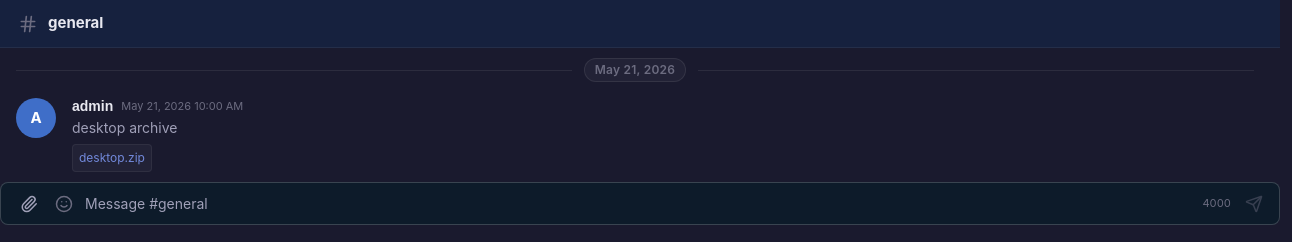
Test: ChatArea regressions › keeps the download filename when desktop resolves an attachment to a blob URL
Click the link "desktop.zip" at (112, 158), box [72,144,152,172]
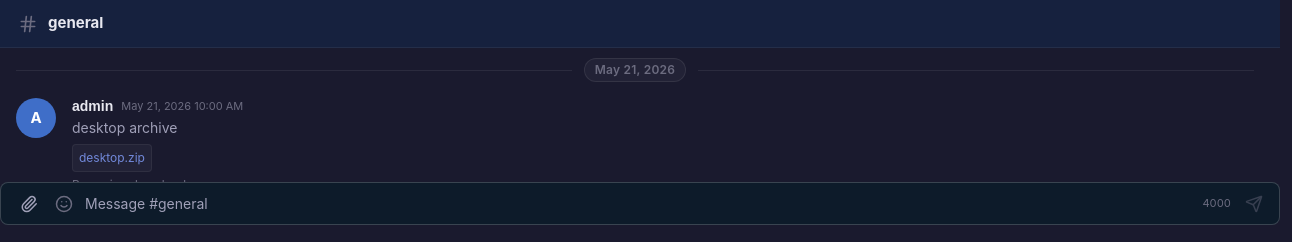
Click the link "desktop.zip" at (112, 158), box [72,144,152,172]
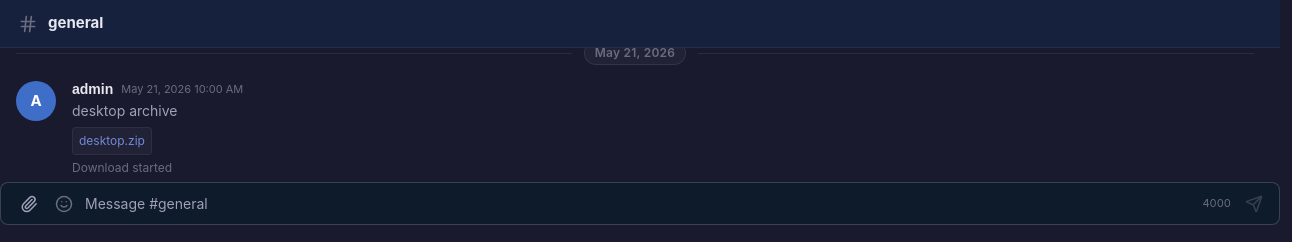
Expected: the link "desktop.zip" is shown, [72,127,152,155]
Now the text "Download started" is shown, box [72,159,172,177]
